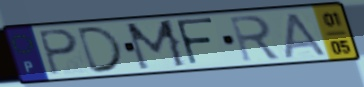A: (283, 11, 329, 60)
D: (75, 24, 127, 75)
F: (173, 17, 218, 68)
M: (123, 18, 190, 73)
P: (35, 28, 81, 78)
R: (227, 13, 284, 64)
